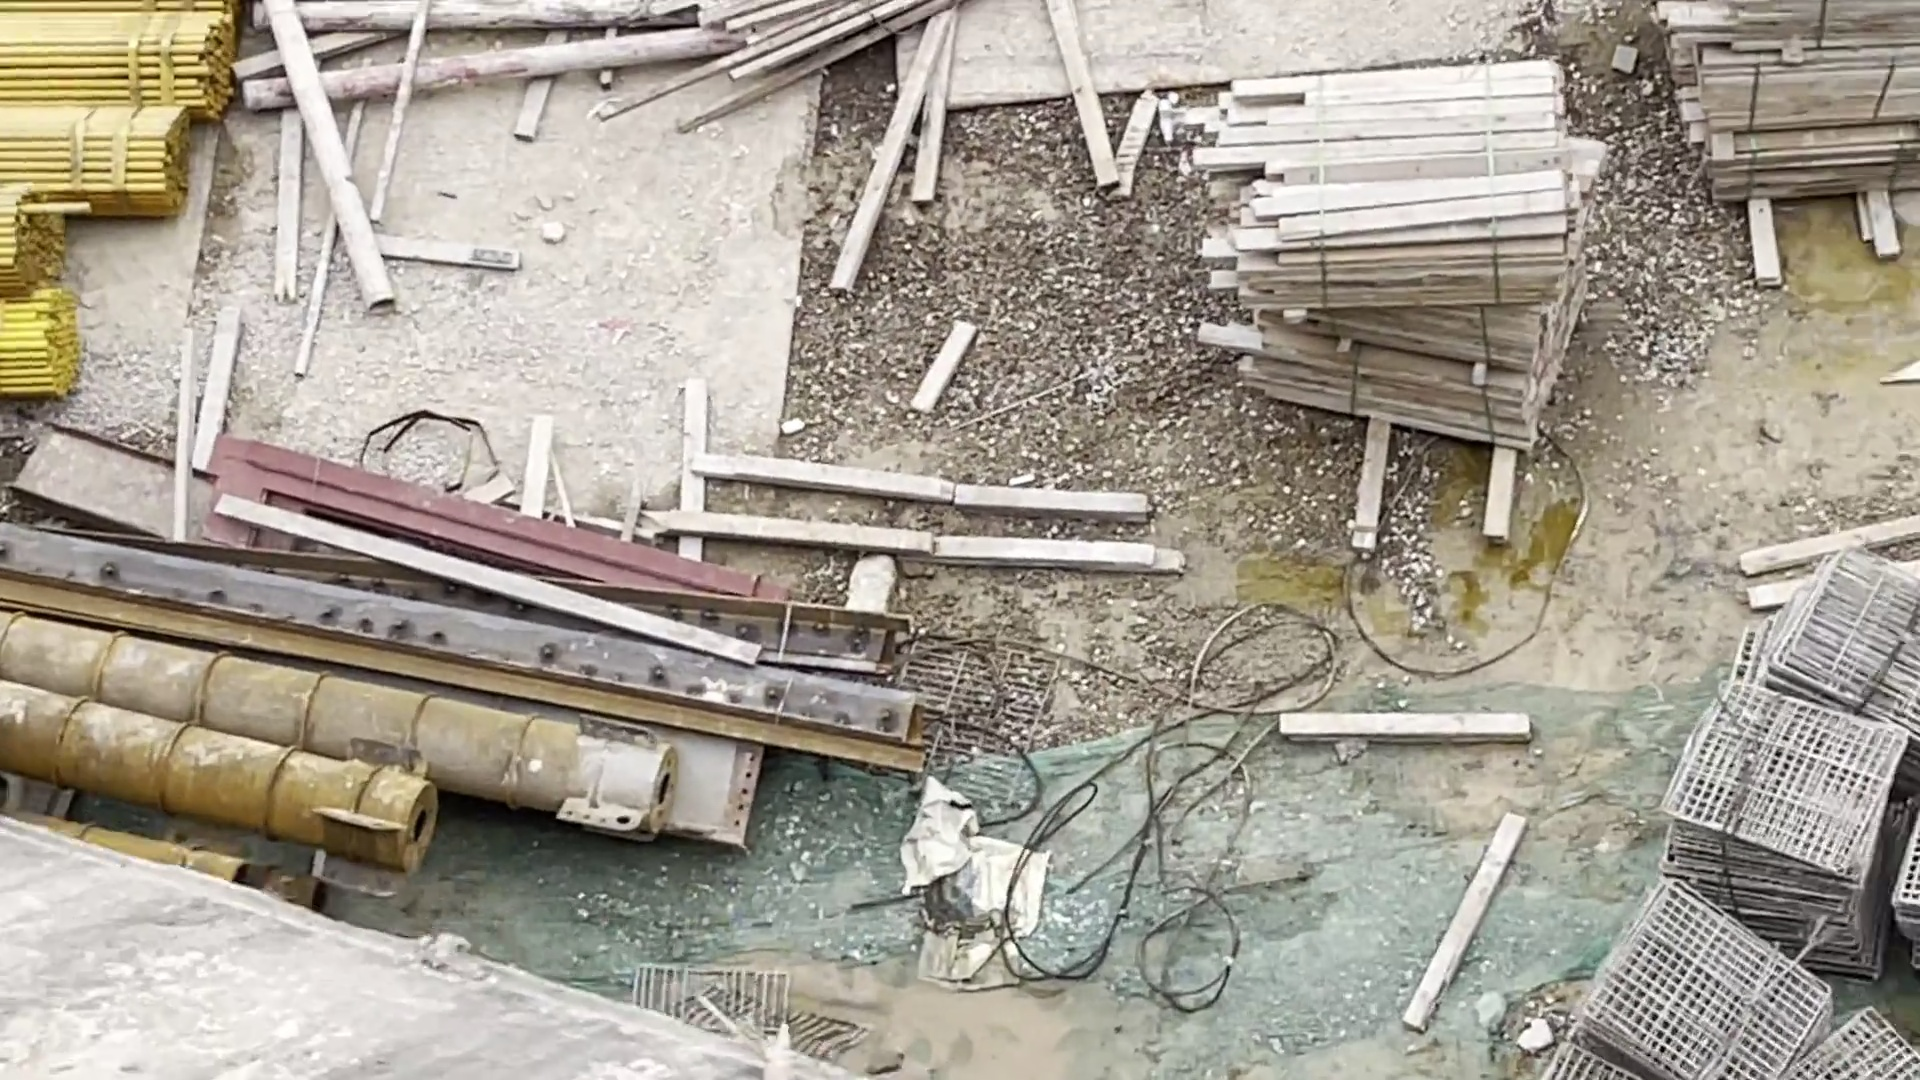wood: (1222, 74, 1563, 460), (1640, 3, 1916, 208)
